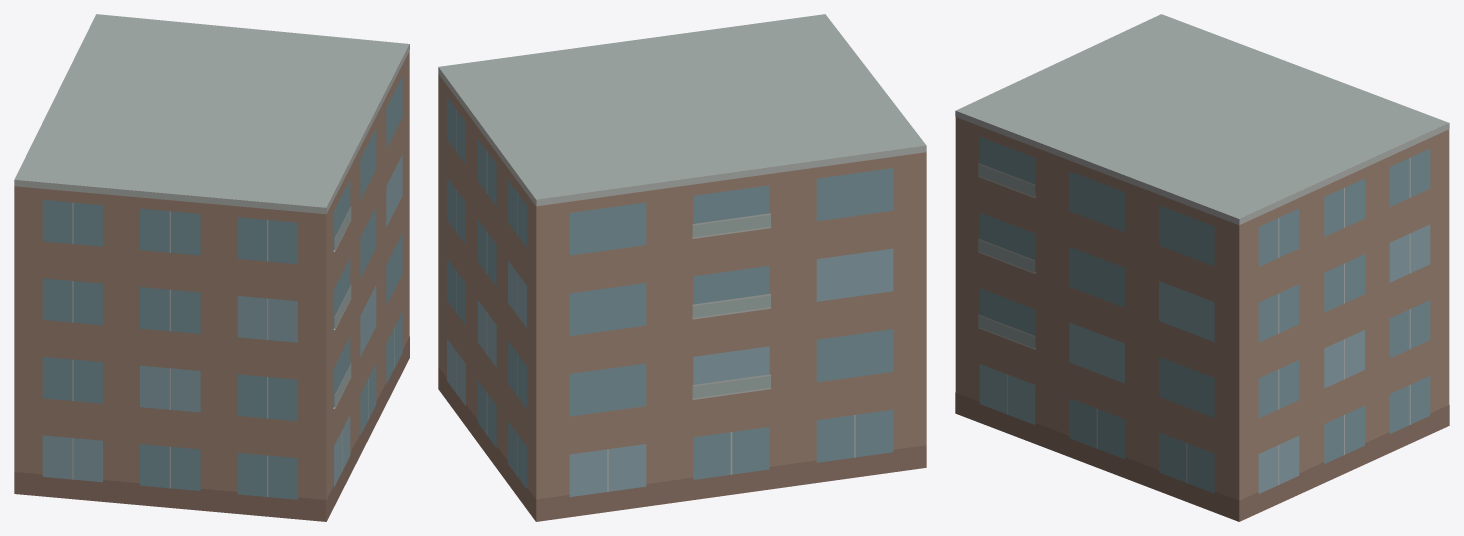
The model's file is survey-upis-32524060.glb.
The picture shows the model from 3 angles, left to right: view 1: azimuth 30°, elevation 25°; view 2: azimuth 150°, elevation 25°; view 3: azimuth 270°, elevation 25°; orthographic projection. The views are drawn at different scales.
Visible parts, largest first — view 1: survey-upis-32524060.tmp; view 2: survey-upis-32524060.tmp; view 3: survey-upis-32524060.tmp.
Part boxes in pixels (x1,y1,x2,y2): survey-upis-32524060.tmp: (14, 14, 409, 521); survey-upis-32524060.tmp: (438, 14, 926, 521); survey-upis-32524060.tmp: (955, 14, 1449, 521).
Size of the model in its own units: 17.29 by 11.9 by 17.6.
